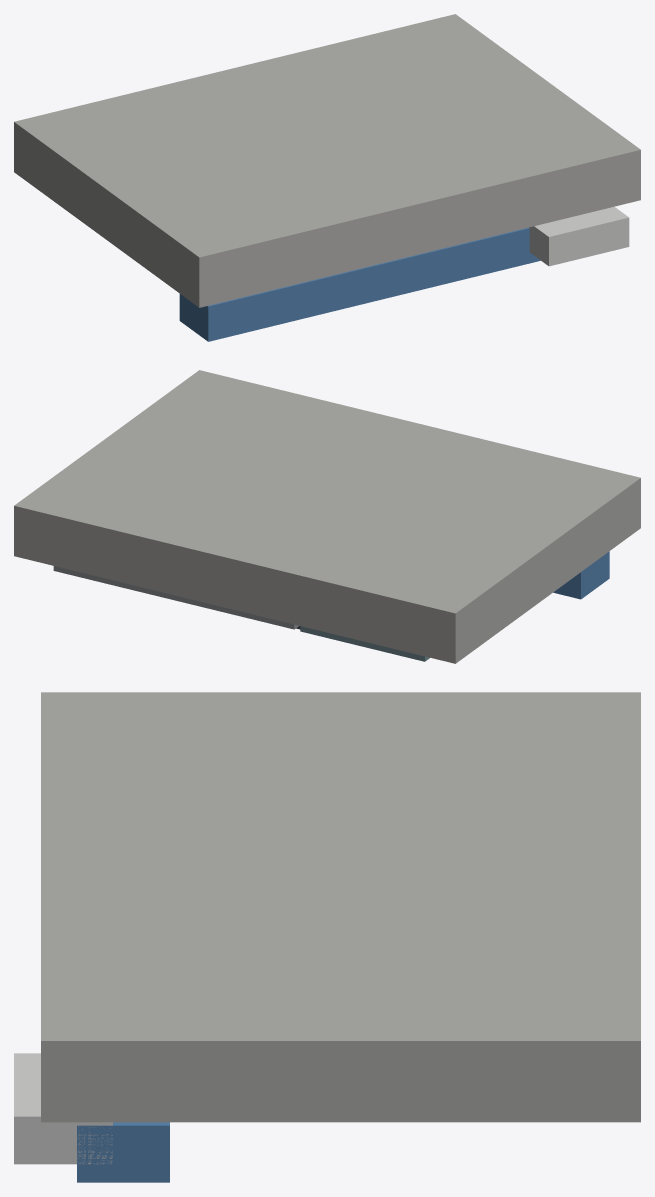
File: SM_Yilan_Storefront_Shutter_5p5m_HQ.glb
The picture shows the model from 3 angles, top to bottom: view 1: azimuth 30°, elevation 25°; view 2: azimuth 150°, elevation 25°; view 3: azimuth 270°, elevation 25°; orthographic projection. The views are drawn at different scales.
Visible parts, largest first — view 1: shell, signbox, ac_unit; view 2: shell, roller_shutter, signbox, shop_window; view 3: shell, signbox, ac_unit.
Part boxes in pixels (x1,y1,x2,y2): shell: (14, 14, 640, 307); signbox: (179, 227, 540, 341); ac_unit: (529, 206, 629, 266); shell: (14, 370, 640, 663); roller_shutter: (53, 566, 298, 629); signbox: (553, 551, 609, 599); shop_window: (300, 626, 429, 661); shell: (41, 692, 640, 1122); signbox: (77, 1122, 169, 1182); ac_unit: (14, 1053, 112, 1164).
Size of the model in its own units: 5.5 by 1.16 by 4.18.
